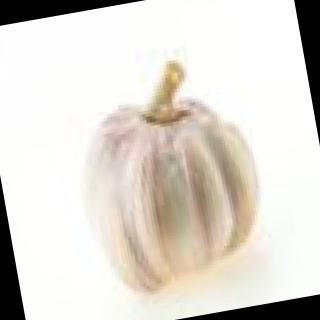Bawang Putih: (46, 42, 291, 305)
